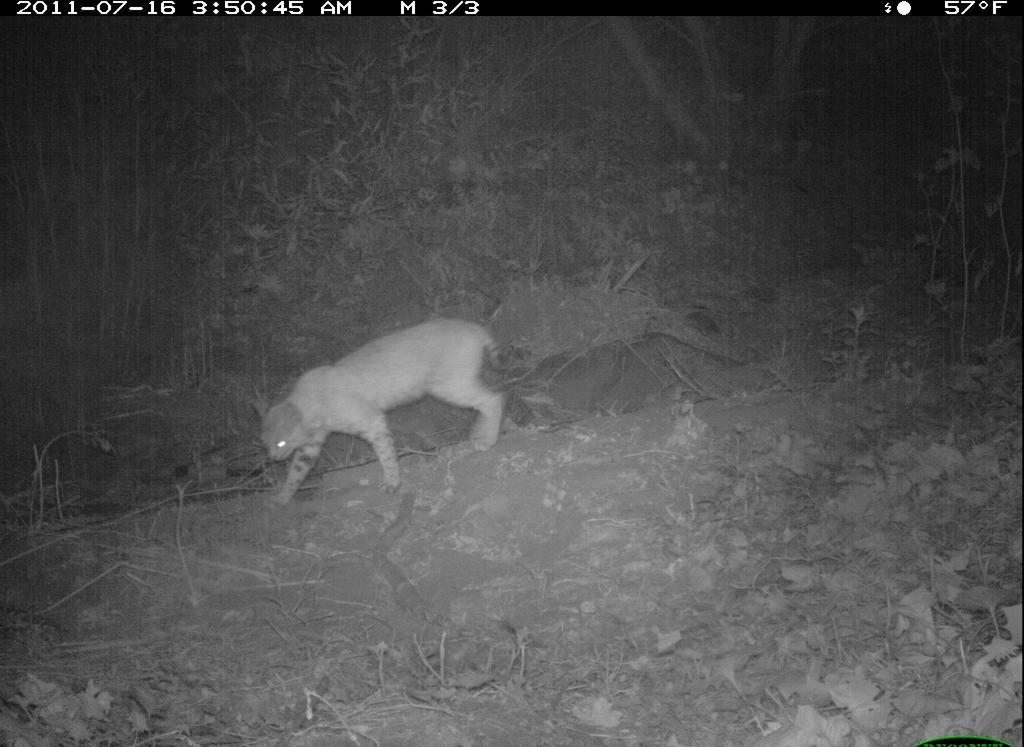bobcat: (241, 312, 519, 513)
